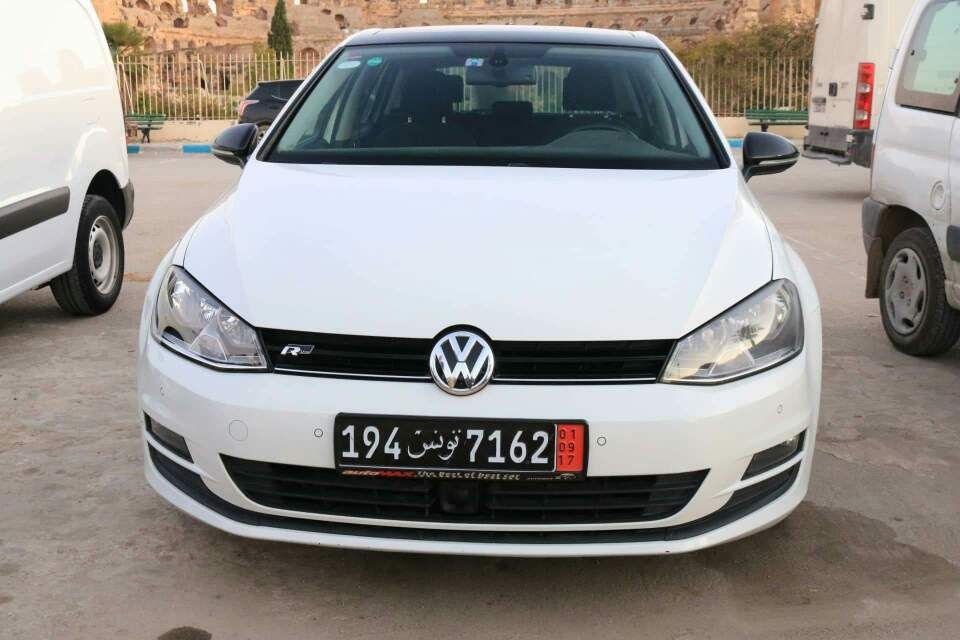LP: (331, 413, 559, 476)
